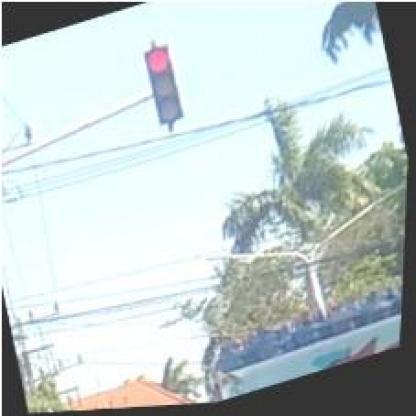red: (141, 42, 189, 127)
